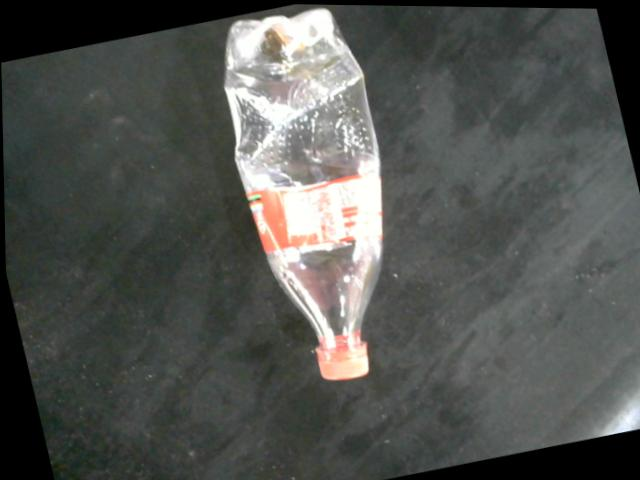bottle: (221, 6, 383, 380)
